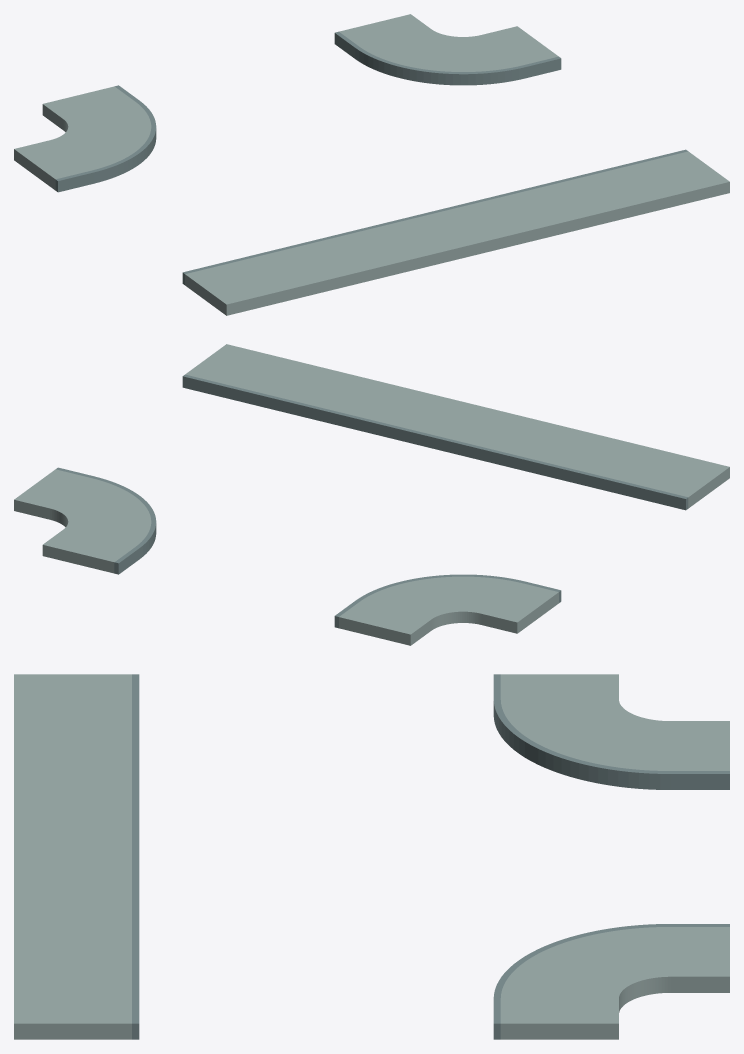
Rendered from RoadPlan_WalkCorner_T_2L.glb.
The picture shows the model from 3 angles, top to bottom: view 1: azimuth 30°, elevation 25°; view 2: azimuth 150°, elevation 25°; view 3: azimuth 270°, elevation 25°; orthographic projection. The views are drawn at different scales.
Parts seen in each view (by area): view 1: RoadPlan_WalkCorner_T_2L_ClosedSidePaving, RoadPlan_WalkCorner_T_2L_CornerPaving_1, RoadPlan_WalkCorner_T_2L_CornerPaving_0, RoadPlan_WalkCorner_T_2L_CornerCurb_0, RoadPlan_WalkCorner_T_2L_ApproachPaving_1_1, RoadPlan_WalkCorner_T_2L_ApproachPaving_1_0, RoadPlan_WalkCorner_T_2L_ClosedSideCurb, RoadPlan_WalkCorner_T_2L_ApproachPaving_0_1, RoadPlan_WalkCorner_T_2L_ApproachPaving_0_0, RoadPlan_WalkCorner_T_2L_CornerCurb_1, RoadPlan_WalkCorner_T_2L_ApproachCurb_1_1, RoadPlan_WalkCorner_T_2L_ApproachCurb_0_0; view 2: RoadPlan_WalkCorner_T_2L_ClosedSidePaving, RoadPlan_WalkCorner_T_2L_ClosedSideCurb, RoadPlan_WalkCorner_T_2L_CornerPaving_1, RoadPlan_WalkCorner_T_2L_CornerPaving_0, RoadPlan_WalkCorner_T_2L_ApproachPaving_1_0, RoadPlan_WalkCorner_T_2L_ApproachPaving_1_1, RoadPlan_WalkCorner_T_2L_ApproachPaving_0_1, RoadPlan_WalkCorner_T_2L_ApproachPaving_0_0, RoadPlan_WalkCorner_T_2L_CornerCurb_0, RoadPlan_WalkCorner_T_2L_CornerCurb_1; view 3: RoadPlan_WalkCorner_T_2L_ClosedSidePaving, RoadPlan_WalkCorner_T_2L_CornerPaving_0, RoadPlan_WalkCorner_T_2L_CornerPaving_1, RoadPlan_WalkCorner_T_2L_ApproachPaving_0_0, RoadPlan_WalkCorner_T_2L_ApproachPaving_0_1, RoadPlan_WalkCorner_T_2L_CornerCurb_1, RoadPlan_WalkCorner_T_2L_ApproachPaving_1_1, RoadPlan_WalkCorner_T_2L_ApproachPaving_1_0, RoadPlan_WalkCorner_T_2L_ClosedSideCurb, RoadPlan_WalkCorner_T_2L_ApproachCurb_1_0, RoadPlan_WalkCorner_T_2L_CornerCurb_0.
Part boxes in pixels (x1,y1,x2,y2): RoadPlan_WalkCorner_T_2L_ClosedSidePaving: [185, 151, 729, 315]; RoadPlan_WalkCorner_T_2L_CornerPaving_1: [50, 101, 151, 170]; RoadPlan_WalkCorner_T_2L_CornerPaving_0: [360, 29, 522, 71]; RoadPlan_WalkCorner_T_2L_CornerCurb_0: [355, 47, 525, 85]; RoadPlan_WalkCorner_T_2L_ApproachPaving_1_1: [14, 140, 90, 190]; RoadPlan_WalkCorner_T_2L_ApproachPaving_1_0: [42, 86, 134, 129]; RoadPlan_WalkCorner_T_2L_ClosedSideCurb: [182, 149, 687, 284]; RoadPlan_WalkCorner_T_2L_ApproachPaving_0_1: [339, 14, 430, 46]; RoadPlan_WalkCorner_T_2L_ApproachPaving_0_0: [482, 26, 558, 65]; RoadPlan_WalkCorner_T_2L_CornerCurb_1: [92, 100, 156, 183]; RoadPlan_WalkCorner_T_2L_ApproachCurb_1_1: [55, 170, 93, 192]; RoadPlan_WalkCorner_T_2L_ApproachCurb_0_0: [523, 56, 561, 78]; RoadPlan_WalkCorner_T_2L_ClosedSidePaving: [185, 344, 729, 508]; RoadPlan_WalkCorner_T_2L_ClosedSideCurb: [182, 374, 688, 510]; RoadPlan_WalkCorner_T_2L_CornerPaving_1: [360, 576, 522, 630]; RoadPlan_WalkCorner_T_2L_CornerPaving_0: [50, 478, 151, 546]; RoadPlan_WalkCorner_T_2L_ApproachPaving_1_0: [339, 602, 431, 645]; RoadPlan_WalkCorner_T_2L_ApproachPaving_1_1: [481, 583, 558, 633]; RoadPlan_WalkCorner_T_2L_ApproachPaving_0_1: [42, 529, 134, 573]; RoadPlan_WalkCorner_T_2L_ApproachPaving_0_0: [14, 469, 90, 519]; RoadPlan_WalkCorner_T_2L_CornerCurb_0: [92, 476, 156, 558]; RoadPlan_WalkCorner_T_2L_CornerCurb_1: [355, 574, 524, 601]; RoadPlan_WalkCorner_T_2L_ClosedSidePaving: [14, 674, 131, 1039]; RoadPlan_WalkCorner_T_2L_CornerPaving_0: [500, 927, 670, 1012]; RoadPlan_WalkCorner_T_2L_CornerPaving_1: [500, 699, 670, 770]; RoadPlan_WalkCorner_T_2L_ApproachPaving_0_0: [500, 998, 618, 1039]; RoadPlan_WalkCorner_T_2L_ApproachPaving_0_1: [671, 927, 729, 992]; RoadPlan_WalkCorner_T_2L_CornerCurb_1: [493, 699, 670, 789]; RoadPlan_WalkCorner_T_2L_ApproachPaving_1_1: [500, 674, 618, 699]; RoadPlan_WalkCorner_T_2L_ApproachPaving_1_0: [671, 721, 729, 770]; RoadPlan_WalkCorner_T_2L_ClosedSideCurb: [132, 674, 139, 1039]; RoadPlan_WalkCorner_T_2L_ApproachCurb_1_0: [671, 771, 729, 789]; RoadPlan_WalkCorner_T_2L_CornerCurb_0: [493, 924, 670, 998].
Size of the model in its own units: 14 by 0.3 by 12.12.
